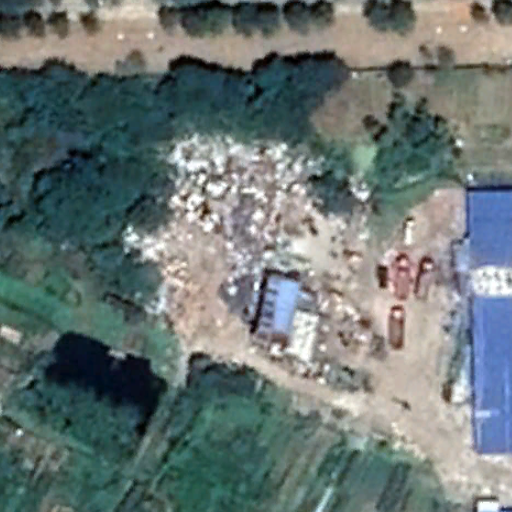msw: (129, 131, 371, 388)
